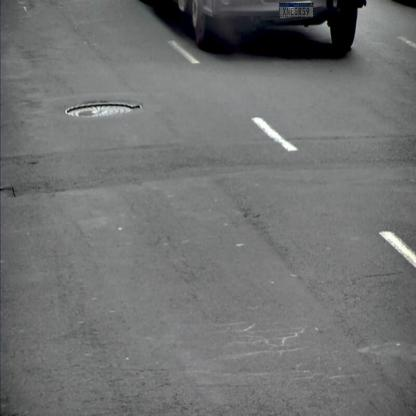PlacaM: (279, 3, 314, 17)
